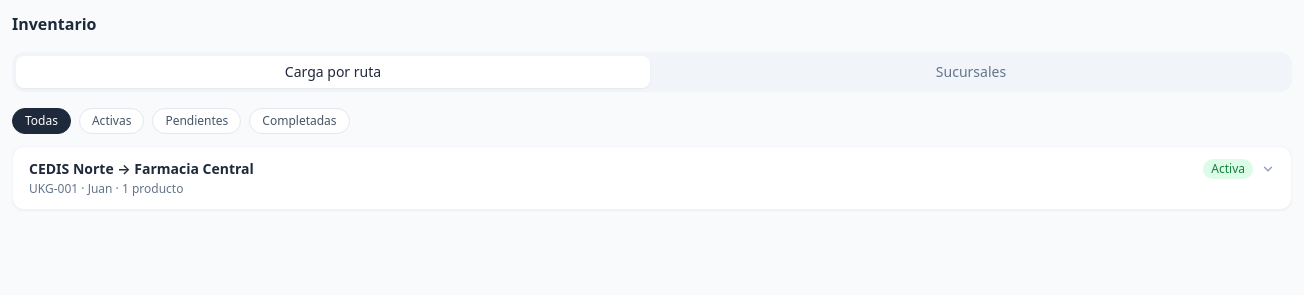
Scenario: Inventory page › expands a route load card on click
// Click the route card button to expand loads
Step 1. Click the button "CEDIS Norte" → (71, 168), box [13,147,1291,209]
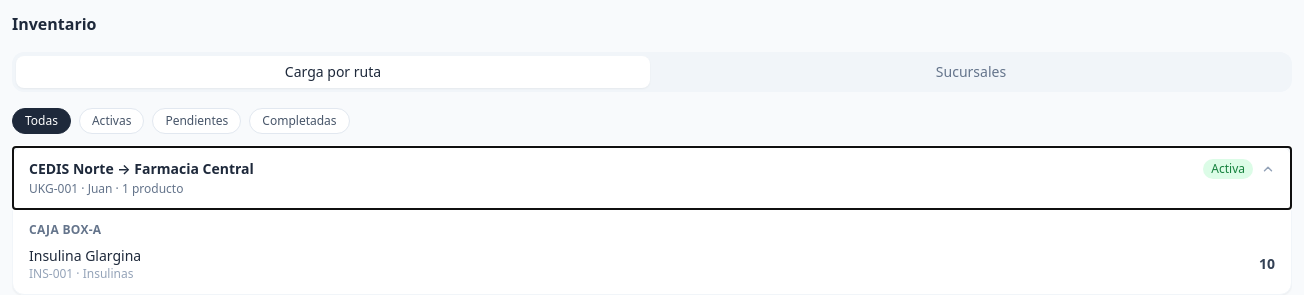
expect the text "Insulina Glargina" is shown: met, box [29,246,141,266]
